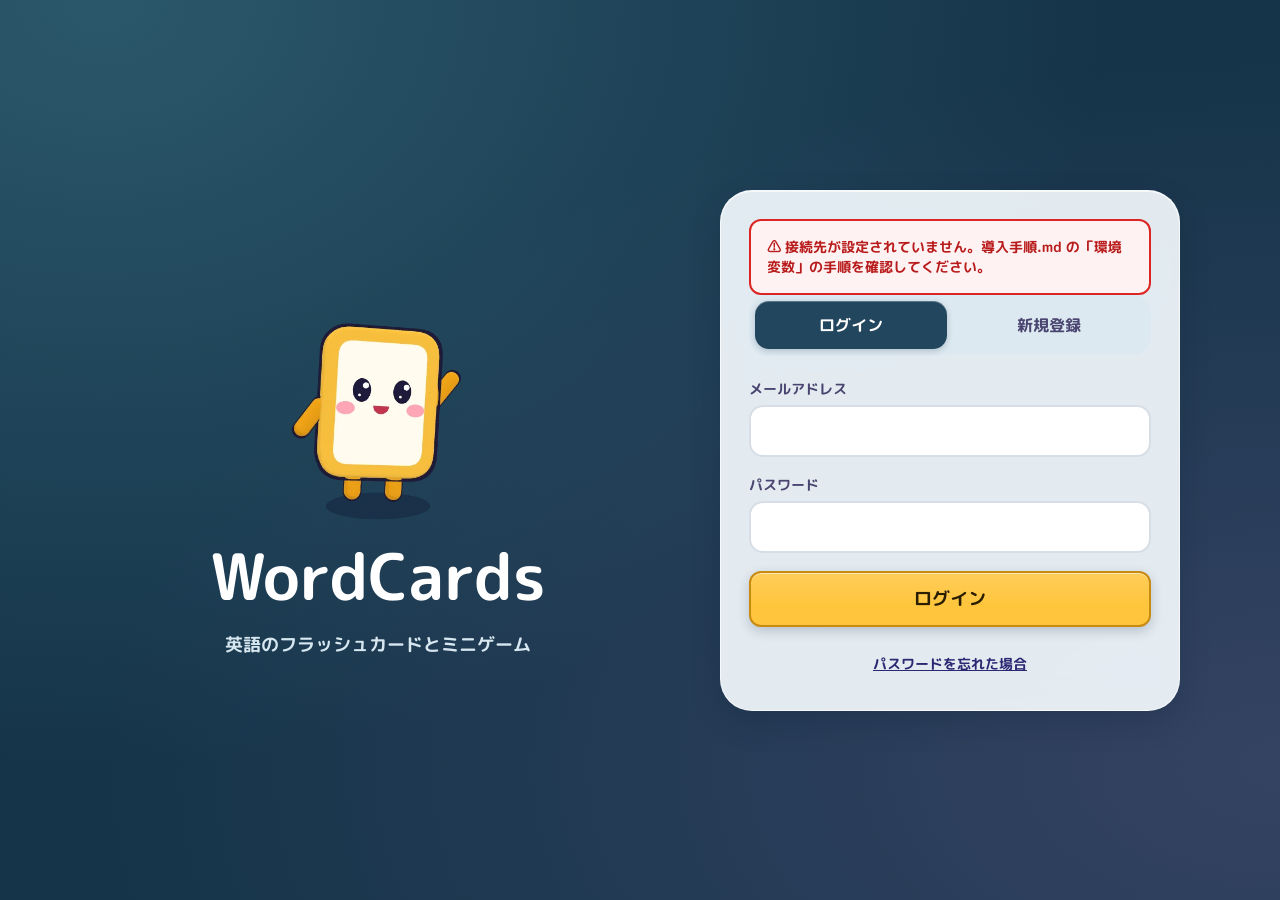
Scenario: 連続入力・ログインエラー・切り替え時のエラー消去を保持する
Type "teacher@example.test" into the field labelled "メールアドレス". click: (950, 430)
box: [749,404,1151,456]
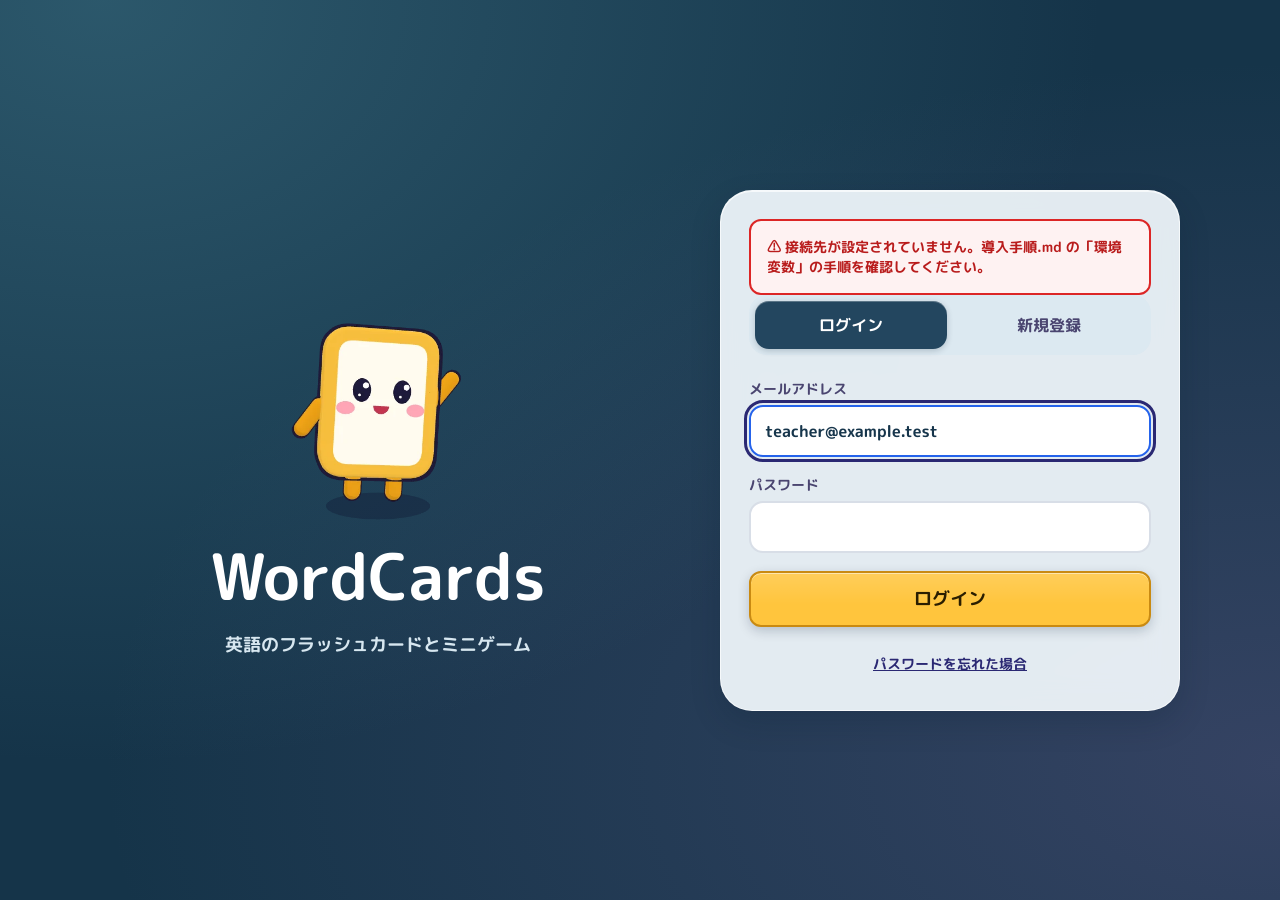
Type "fixture-password" into the password field labelled "パスワード". click: (950, 526)
box: [749,500,1151,552]
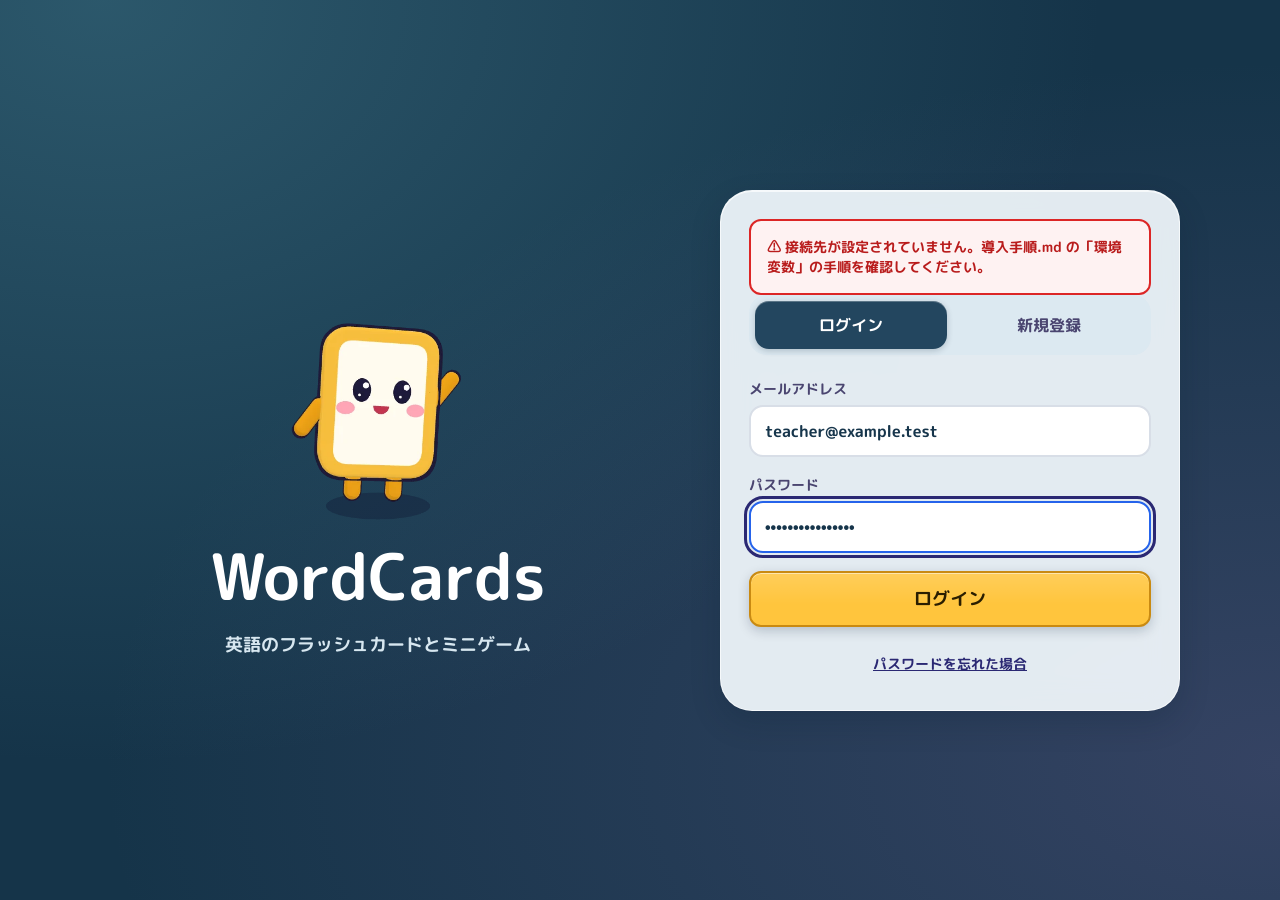
Click the button "ログイン". click: click(950, 598)
box: [749,570,1151,626]
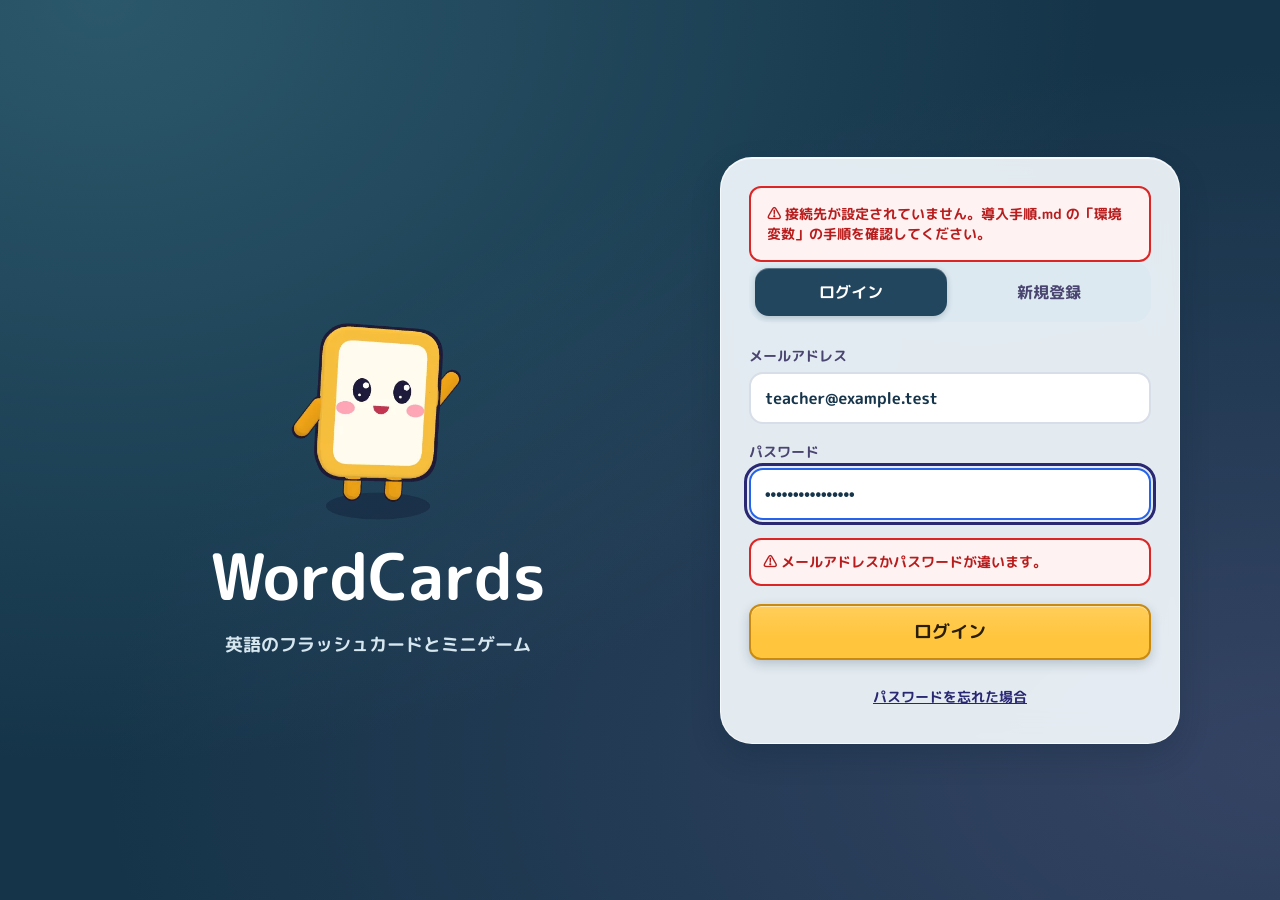
Result: the text "⚠ メールアドレスかパスワードが違います。" is shown at [749,538,1151,586]
Click the tab "新規登録". click: click(1049, 292)
box: [953,268,1145,316]
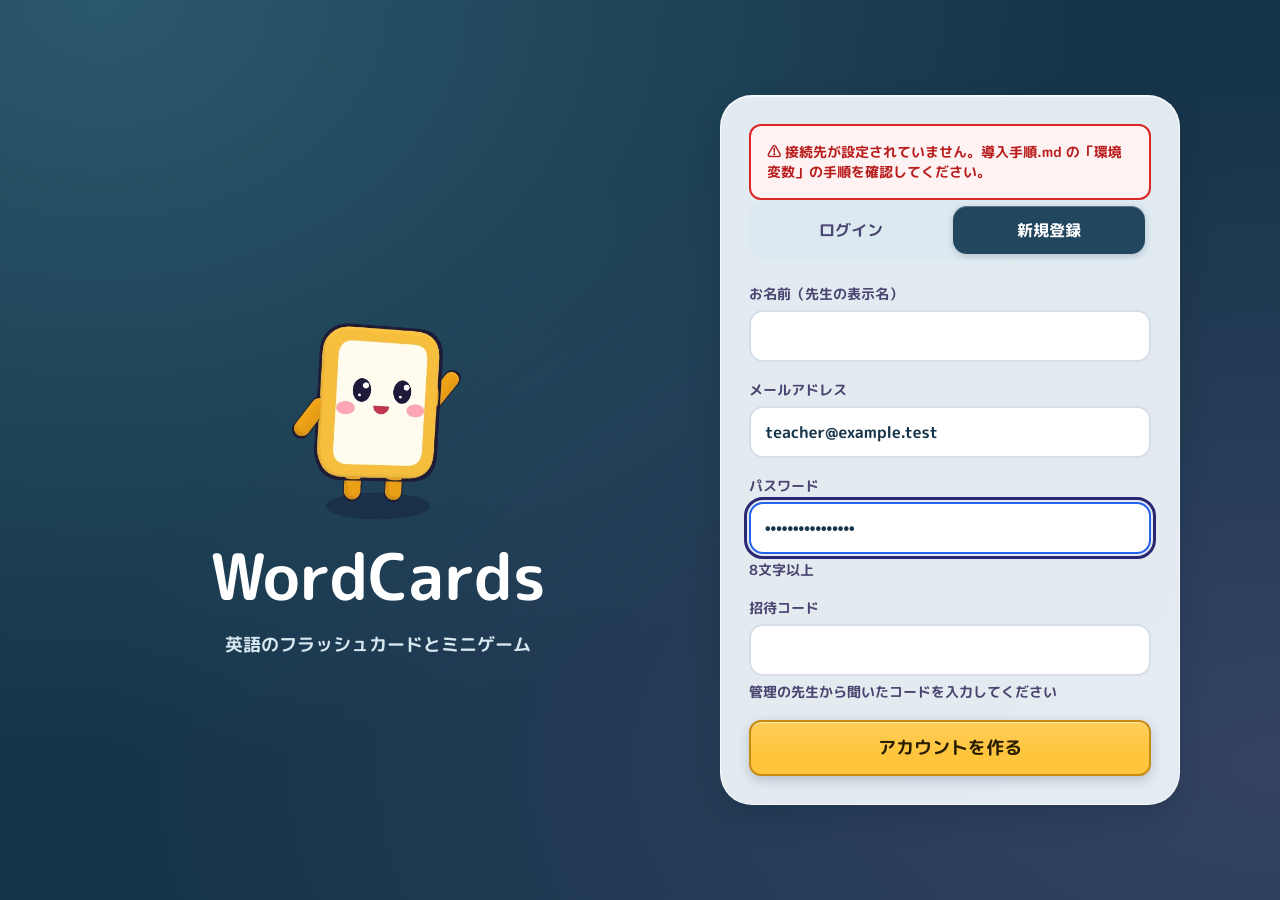
Result: the text "メールアドレスかパスワードが違います" is gone
